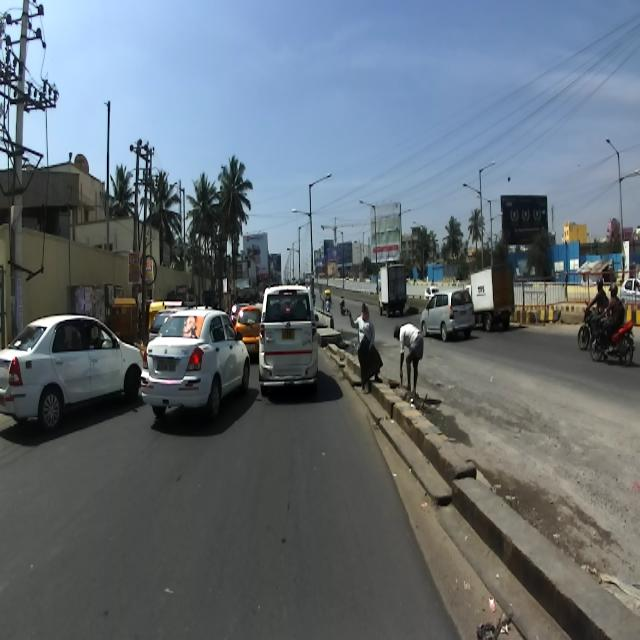car ahead at: (2, 315, 146, 441), (144, 303, 253, 435), (256, 283, 318, 395)
electric pole ahead at: (0, 2, 62, 316)
person ahead at: (340, 297, 378, 398), (389, 322, 428, 398)
